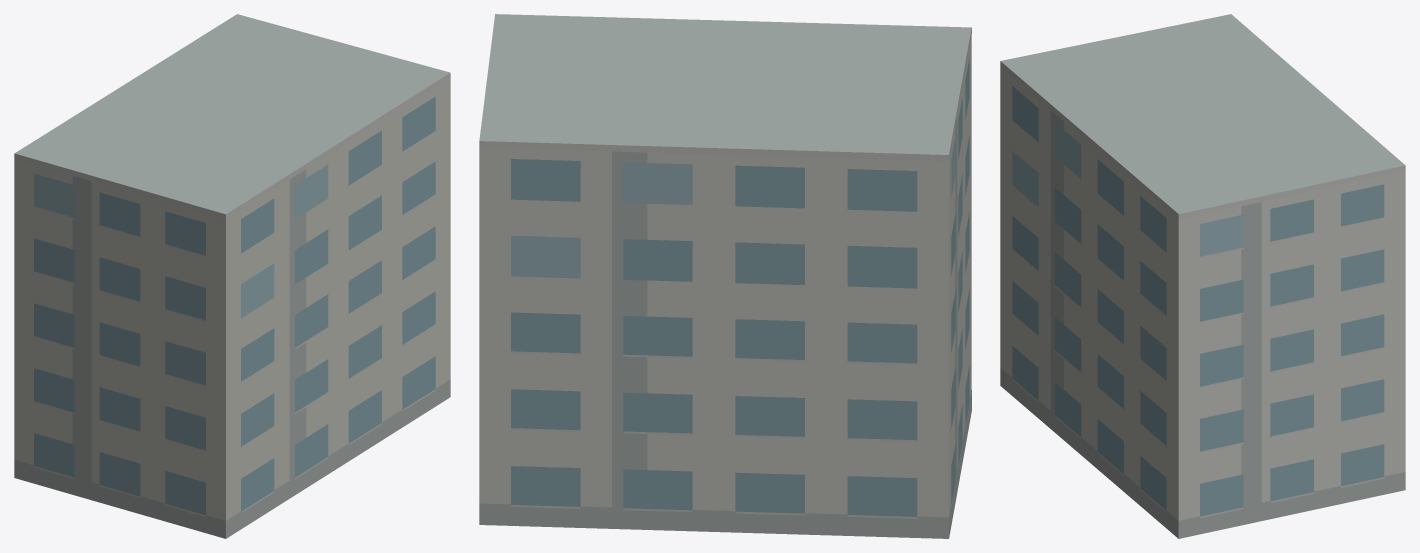
File: survey-upis-32891432.glb
3 renders of one model, left to right at view 1: azimuth 30°, elevation 25°; view 2: azimuth 150°, elevation 25°; view 3: azimuth 270°, elevation 25°, orthographic. The views are drawn at different scales.
Visible parts, largest first — view 1: survey-upis-32891432.tmp; view 2: survey-upis-32891432.tmp; view 3: survey-upis-32891432.tmp.
Boxes of the visible parts, left/top/right/bottom form: survey-upis-32891432.tmp: left=14, top=14, right=450, bottom=538; survey-upis-32891432.tmp: left=479, top=14, right=971, bottom=538; survey-upis-32891432.tmp: left=1000, top=14, right=1405, bottom=538.
Bounding box in the file's own units: 18.91 × 14.3 × 16.18.
